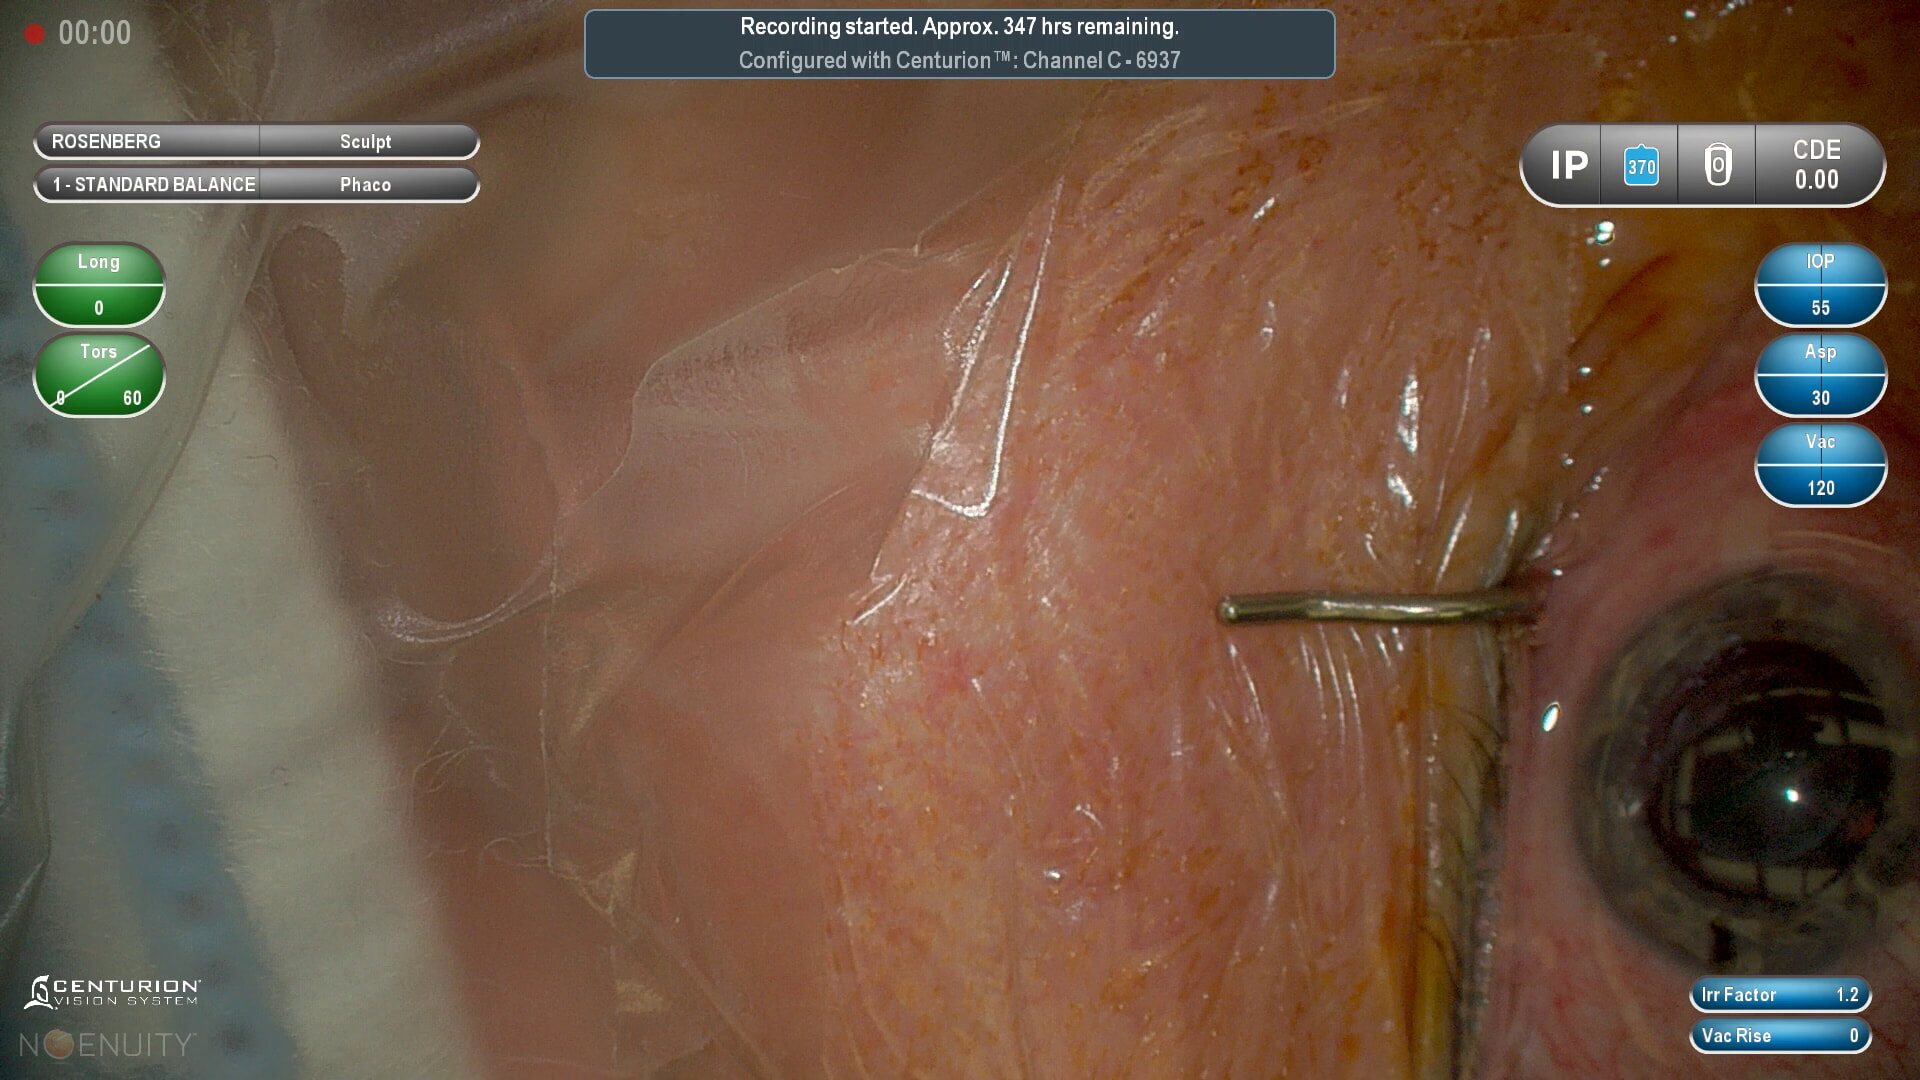iris: (1576, 580, 1920, 972)
pupil: (1635, 643, 1891, 899)
